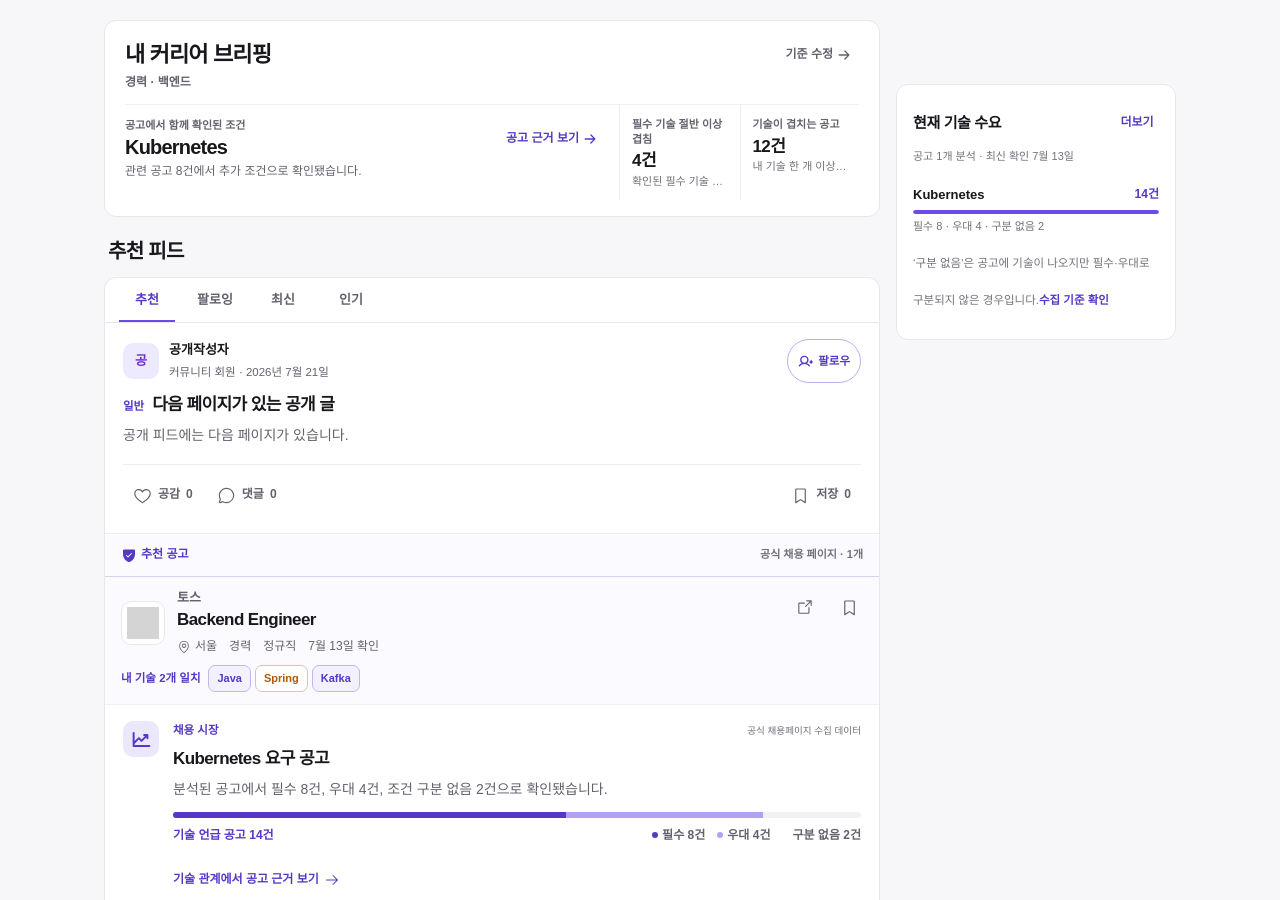
Test: HomeFeed › does not reuse the public cursor after a completed following feed loads
The width and height of the screenshot is (1280, 900).
Check: the element "다음 페이지가 있는 공개 글" is shown, box x1=105 y1=324 x2=879 y2=534
Click the tab "팔로잉". click: (215,300)
box: x1=187 y1=278 x2=243 y2=322
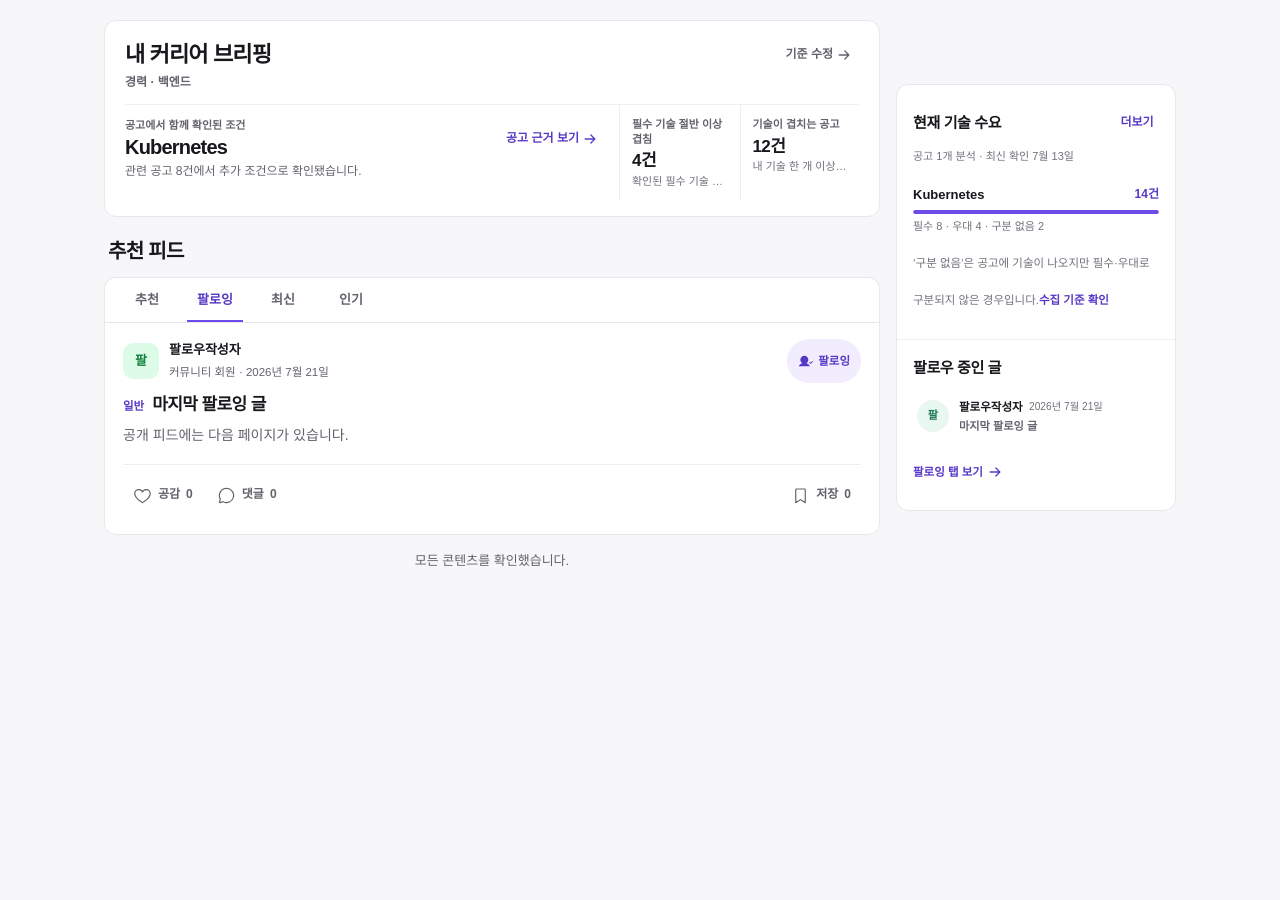
Check: the element "마지막 팔로잉 글" is shown, box x1=105 y1=324 x2=879 y2=534
